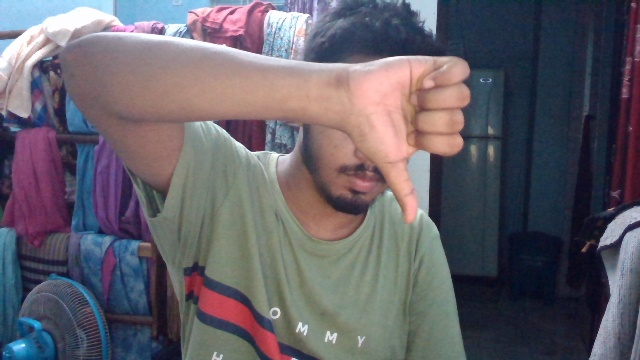no: (344, 55, 476, 226)
